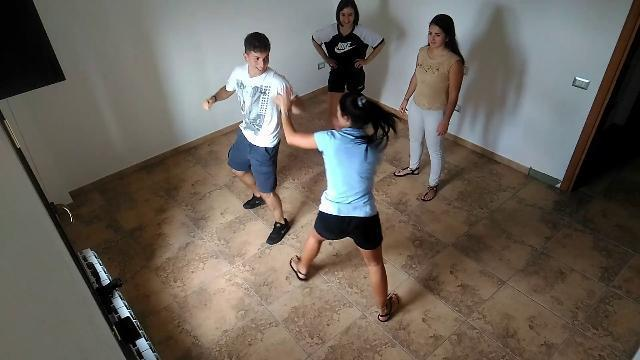non-violence: (392, 12, 468, 204), (309, 0, 387, 132)
violence: (204, 31, 404, 325)
